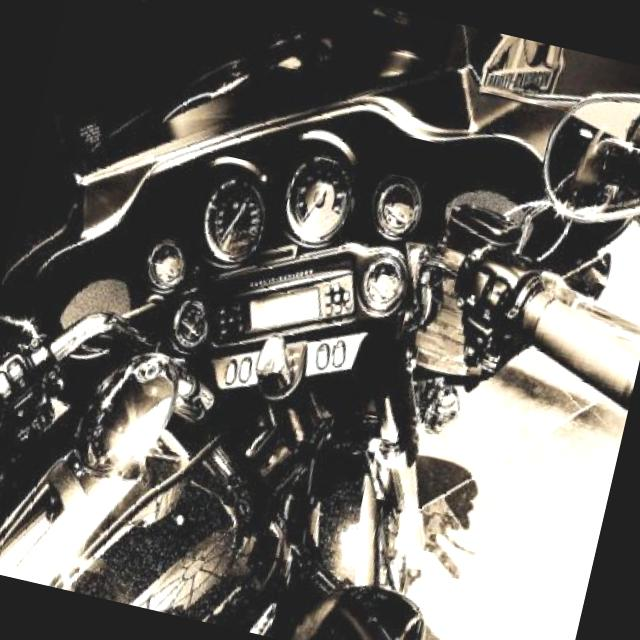Person: (545, 86, 640, 224)
